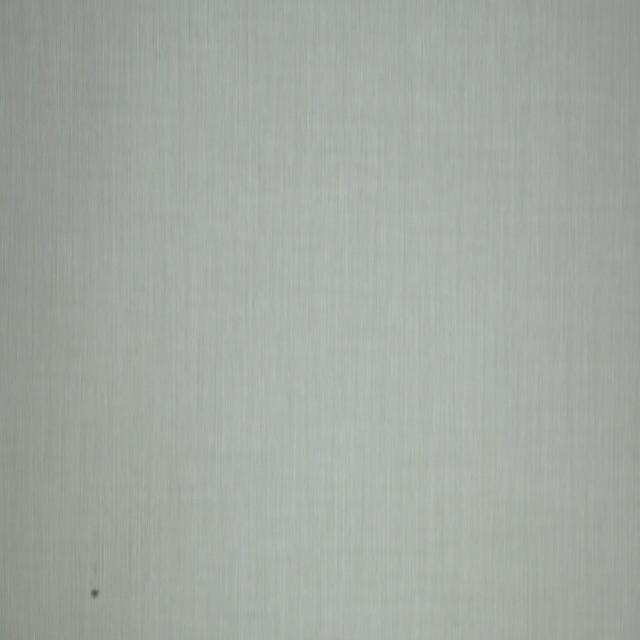dirty: (91, 586, 99, 598)
